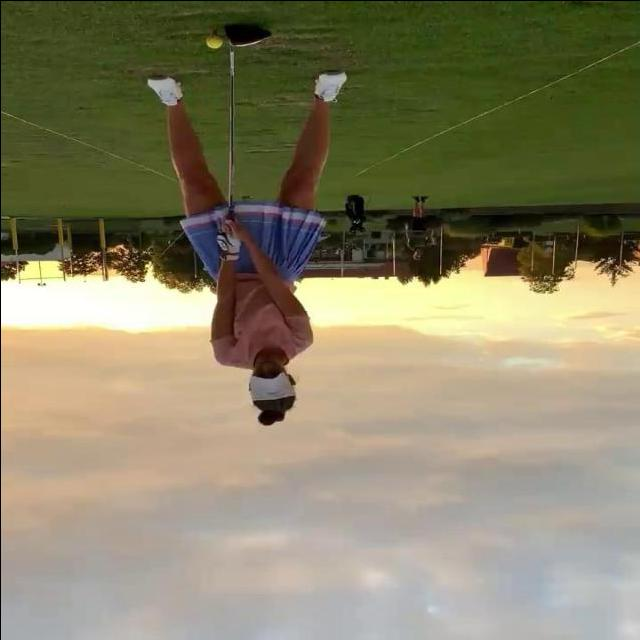ClubHandle: (225, 23, 271, 218)
ClubHead: (225, 23, 271, 47)
GolfBall: (205, 34, 221, 47)
